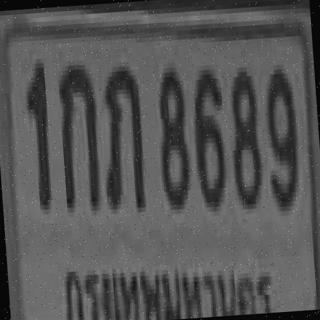A01: (55, 60, 101, 208)
A32: (97, 61, 146, 210)
N01: (23, 58, 52, 205)
N06: (189, 66, 228, 206)
N08: (153, 62, 190, 206), (226, 62, 263, 205)
N09: (261, 64, 300, 207)
P04: (60, 240, 279, 320)
